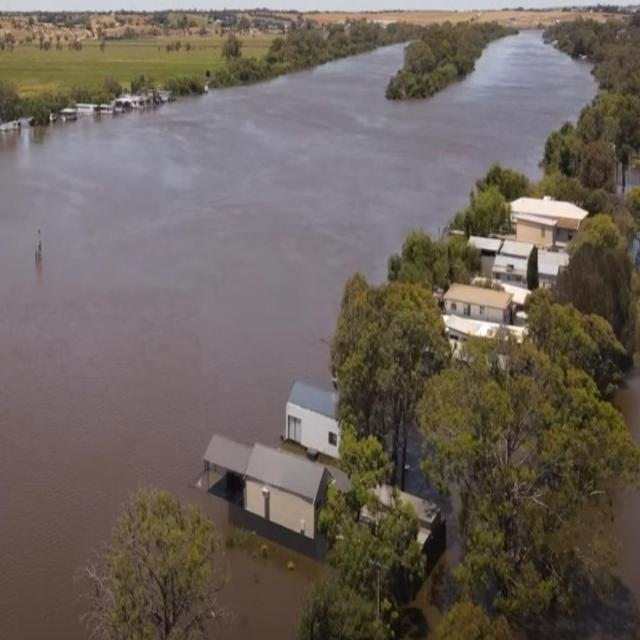flood: (0, 31, 597, 639), (615, 490, 640, 606), (614, 368, 640, 446)
house: (201, 430, 327, 540), (357, 478, 447, 601), (503, 194, 589, 250), (446, 281, 523, 343), (288, 381, 340, 456), (491, 235, 543, 298)
